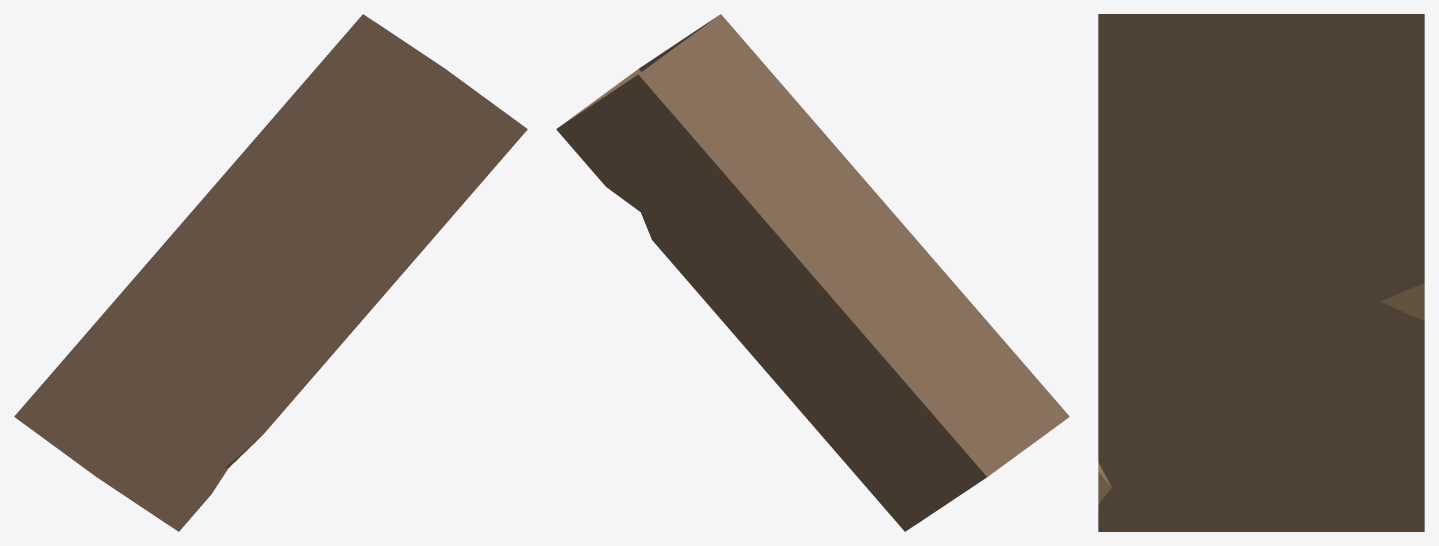
File: Cave_Prop_Support_Corner_Brace_2.obj
The picture shows the model from 3 angles, left to right: view 1: azimuth 30°, elevation 25°; view 2: azimuth 150°, elevation 25°; view 3: azimuth 270°, elevation 25°; orthographic projection. The views are drawn at different scales.
Visible parts, largest first — view 1: object1; view 2: object1; view 3: object1.
Part boxes in pixels (bbox=[...]): object1: bbox=[14, 14, 527, 531]; object1: bbox=[556, 14, 1069, 531]; object1: bbox=[1098, 14, 1424, 531].
Bounding box in the file's own units: 0.6029 × 0.5243 × 0.2.
